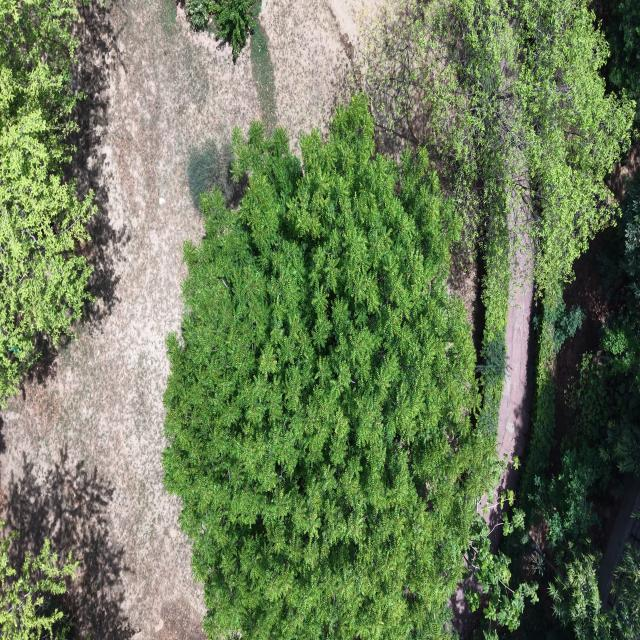DRY_AREA: (0, 0, 260, 639), (550, 228, 623, 473), (479, 234, 534, 546), (493, 240, 535, 504), (494, 240, 535, 503)
VEGETATION_TREE: (164, 0, 639, 639), (164, 97, 496, 639), (365, 0, 639, 633), (364, 0, 635, 574), (365, 0, 634, 438), (366, 0, 634, 292), (364, 2, 512, 433), (521, 180, 639, 639), (525, 180, 639, 639), (0, 0, 93, 401), (513, 0, 634, 297), (520, 287, 624, 548), (575, 182, 639, 474), (577, 179, 639, 475), (521, 283, 583, 495), (466, 516, 538, 639), (549, 545, 639, 639), (0, 533, 77, 639), (477, 217, 510, 437), (529, 450, 599, 549), (549, 555, 610, 639), (186, 0, 256, 60), (602, 0, 639, 107), (187, 139, 233, 206), (609, 543, 639, 639), (210, 0, 255, 59), (186, 0, 210, 30), (256, 0, 261, 15)
